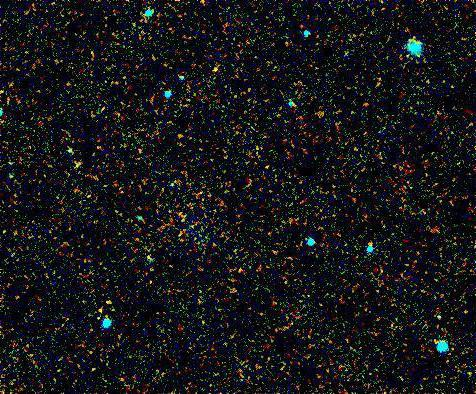star: (202, 56, 232, 86)
